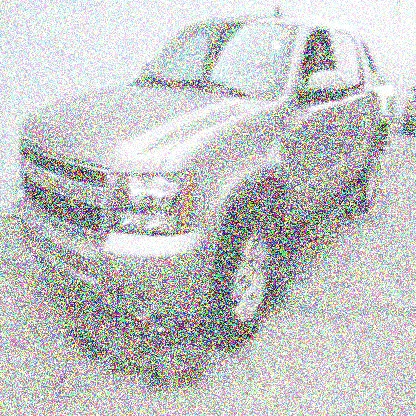Vehicle: (13, 7, 397, 349)
